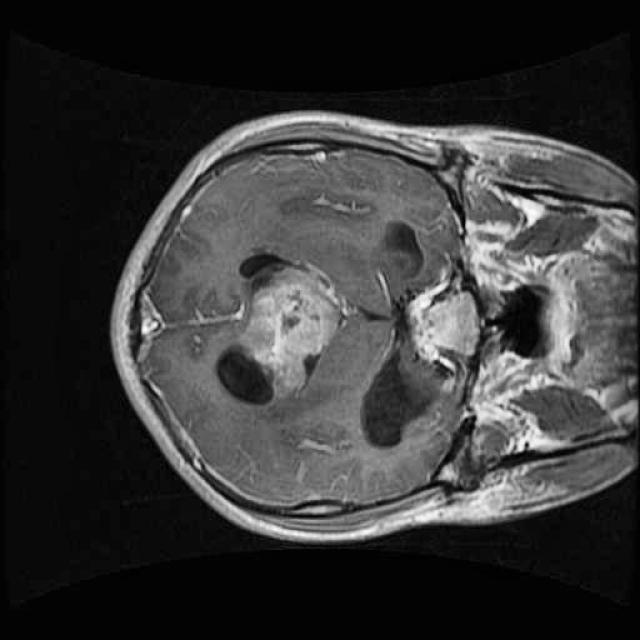Non-Tumor: (226, 256, 361, 409)
